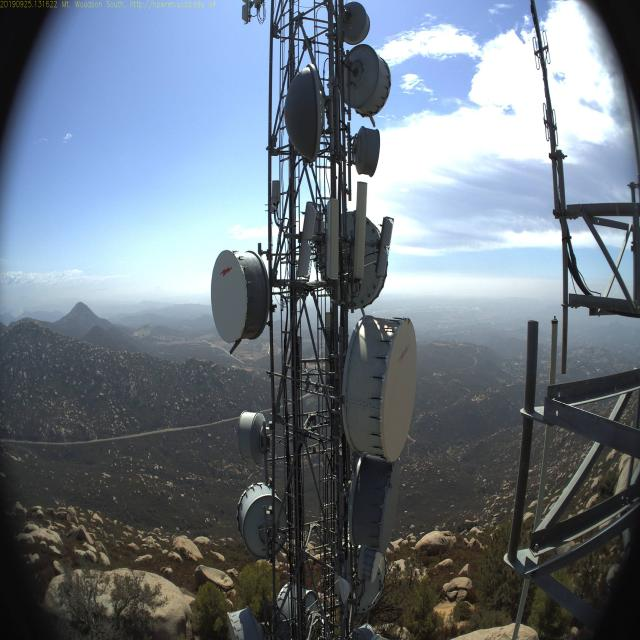smoke: (4, 302, 24, 319)
